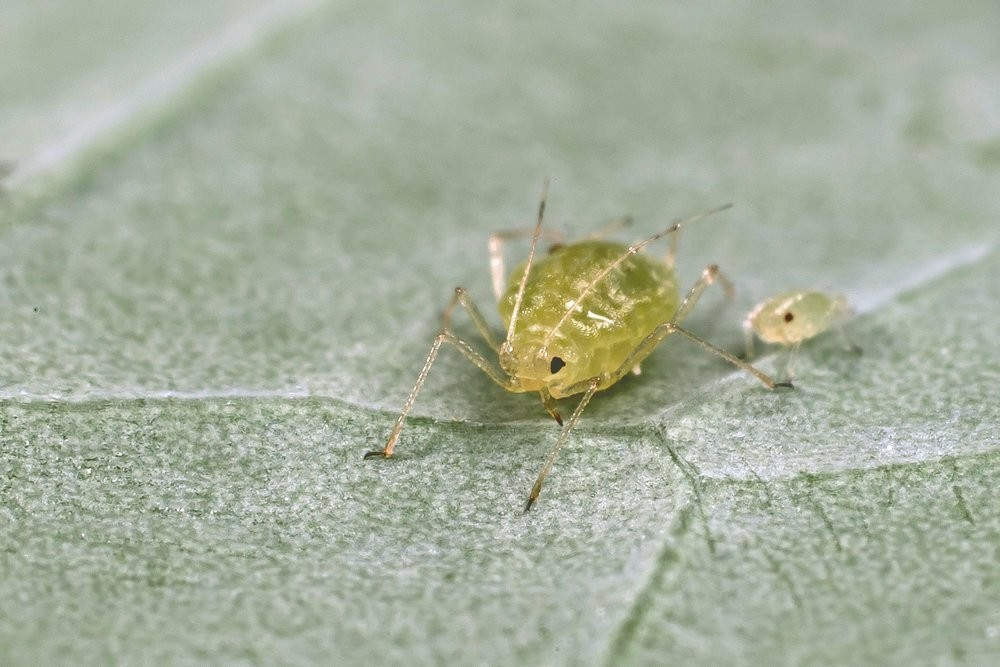Pulgon: (372, 176, 755, 519), (736, 245, 866, 367)
